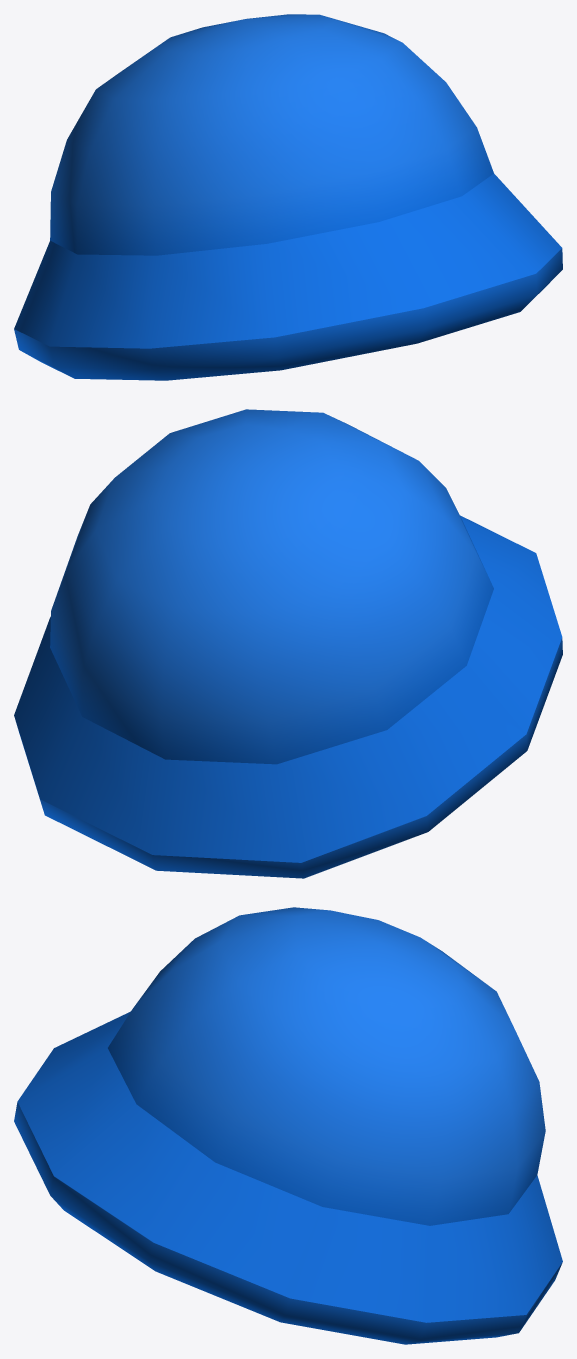
Rendered from Headgear_10.fbx.
3 views of the same model, one above another, from view 1: azimuth 30°, elevation 25°; view 2: azimuth 150°, elevation 25°; view 3: azimuth 270°, elevation 25° (orthographic).
Parts seen in each view (by area): view 1: Headgear_10; view 2: Headgear_10; view 3: Headgear_10.
Boxes of the visible parts, x1=… form: Headgear_10: x1=14, y1=14, x2=562, y2=380; Headgear_10: x1=14, y1=409, x2=562, y2=878; Headgear_10: x1=14, y1=907, x2=562, y2=1344.
Bounding box in the file's own units: 77.17 × 54.79 × 76.57.
